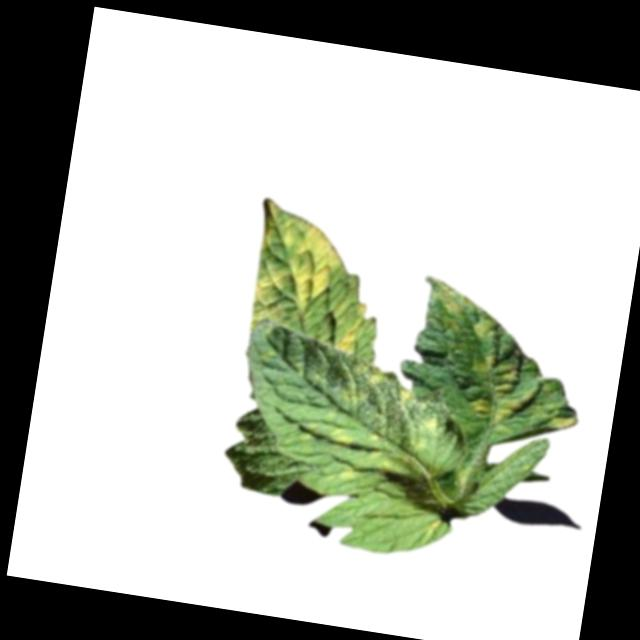Leaf_Mold: (243, 195, 353, 337), (467, 347, 542, 426), (418, 275, 480, 335), (337, 356, 393, 409), (338, 294, 372, 354), (333, 455, 367, 487), (543, 404, 581, 431), (474, 314, 501, 342), (330, 424, 357, 449)
